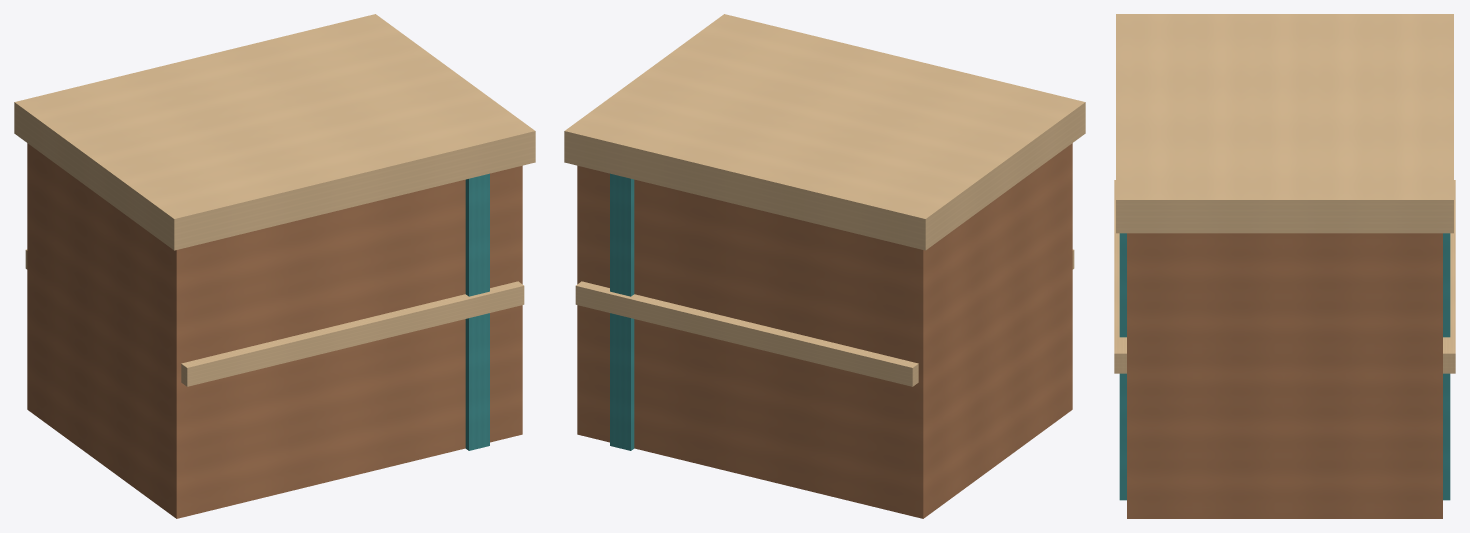
File: atlas100-desertdeco-util02.lod2.glb
The picture shows the model from 3 angles, left to right: view 1: azimuth 30°, elevation 25°; view 2: azimuth 150°, elevation 25°; view 3: azimuth 270°, elevation 25°; orthographic projection. The views are drawn at different scales.
Visible parts, largest first — view 1: atlas100-desertdeco-util02:part-000, atlas100-desertdeco-util02:part-005, atlas100-desertdeco-util02:part-004, atlas100-desertdeco-util02:part-002; view 2: atlas100-desertdeco-util02:part-000, atlas100-desertdeco-util02:part-005, atlas100-desertdeco-util02:part-003, atlas100-desertdeco-util02:part-002; view 3: atlas100-desertdeco-util02:part-000, atlas100-desertdeco-util02:part-005, atlas100-desertdeco-util02:part-002, atlas100-desertdeco-util02:part-003, atlas100-desertdeco-util02:part-004.
Part boxes in pixels (x1,y1,x2,y2): atlas100-desertdeco-util02:part-000: (27,143,522,518); atlas100-desertdeco-util02:part-005: (14,14,535,250); atlas100-desertdeco-util02:part-004: (181,281,524,386); atlas100-desertdeco-util02:part-002: (465,173,489,450); atlas100-desertdeco-util02:part-000: (577,143,1072,518); atlas100-desertdeco-util02:part-005: (564,14,1085,250); atlas100-desertdeco-util02:part-003: (575,281,918,386); atlas100-desertdeco-util02:part-002: (610,173,634,450); atlas100-desertdeco-util02:part-000: (1127,233,1442,518); atlas100-desertdeco-util02:part-005: (1116,14,1453,233); atlas100-desertdeco-util02:part-002: (1119,233,1450,500); atlas100-desertdeco-util02:part-003: (1443,180,1455,373); atlas100-desertdeco-util02:part-004: (1114,180,1126,373).
Bounding box in the file's own units: 1.26 × 1.01 × 0.9728.
3 materials, 3 textured.
